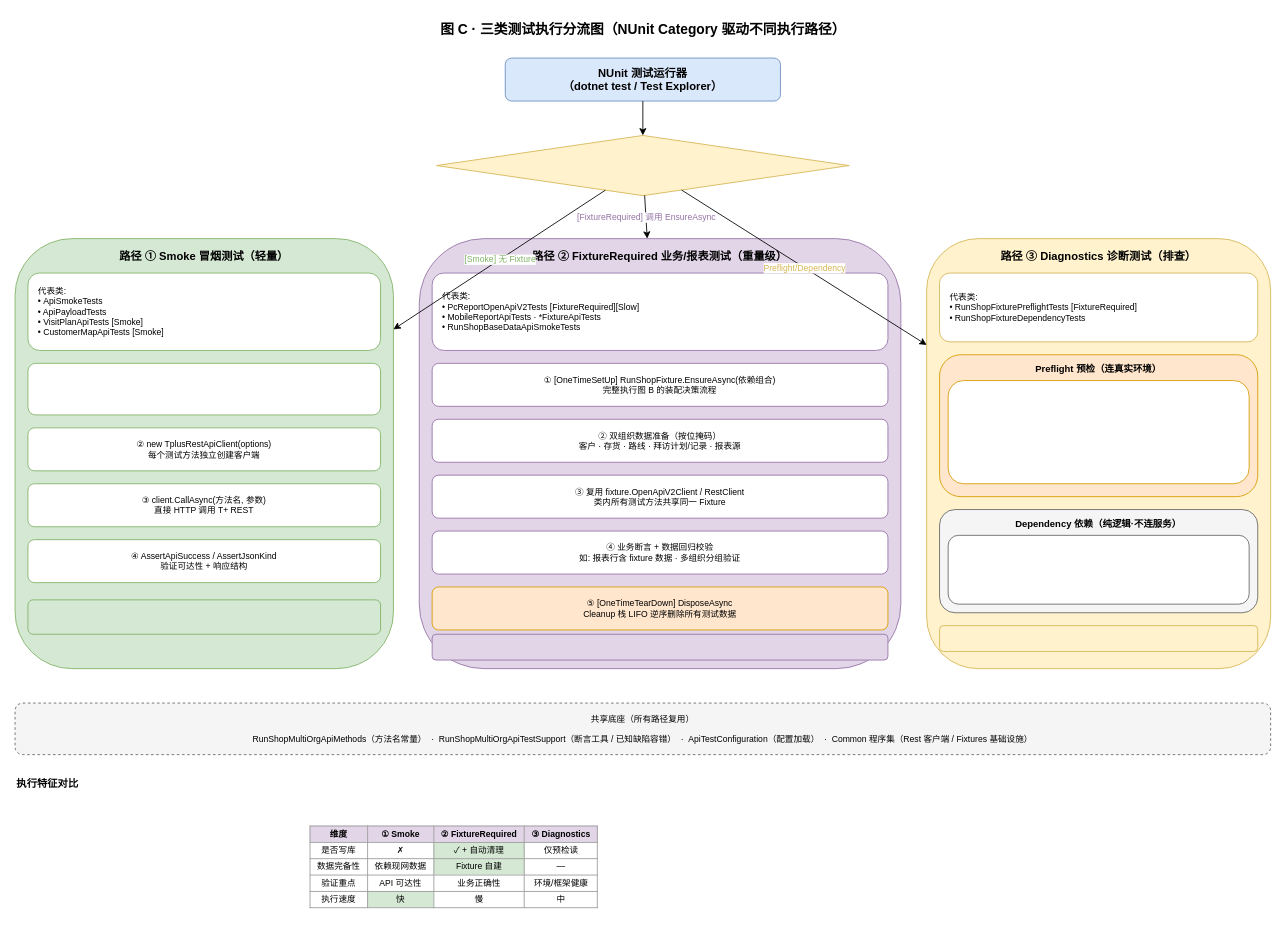
Image size: 1286x949. Some labels were removed from this diagram. The shapes that lost their labels are listed below. From the top down, each one's centre as x and y in pixels, then its label:
(642,165): 按 [Category] + 是否调用 RunShopFixture.EnsureAsync 分流
(204,388): ① LoadOptionsOrIgnore() 加载配置 + 必填校验 缺项 → Assert.Ignore
(1098,432): • 配置文件存在 + 开关正确 • RestToken 能否创建 • Fixture 能声明 BaseData • SQL 参数化命令可执行
(1098,569): • 验证位掩码组合正确性 (ReportData 含全部子依赖) • 验证数据载体绑定的组织 ID
(204,616): ✓ 无需 Fixture · 无需写库 · 速度最快
(659,646): ✓ 数据完备 · 验证业务正确性 · 用后即清理
(1098,638): ✓ 定位环境/配置/框架自身问题
